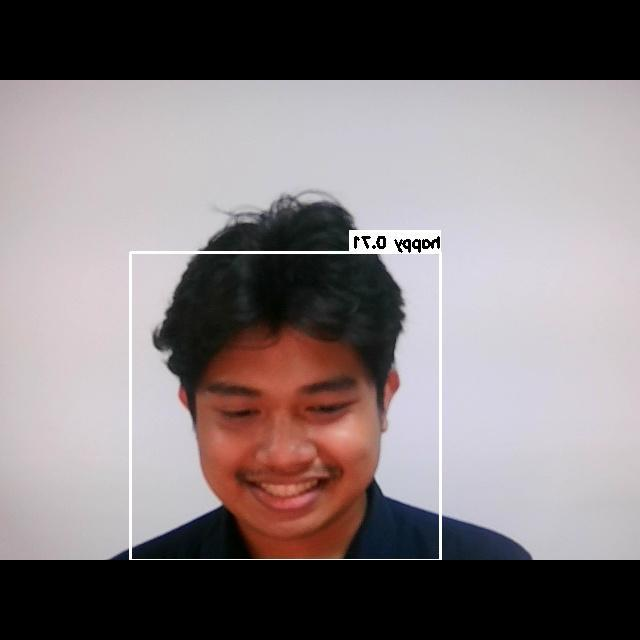Happy: (179, 347, 384, 516)
